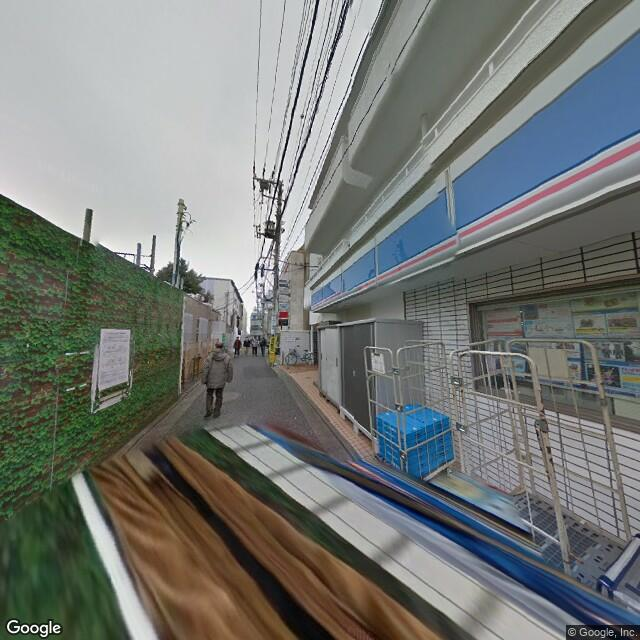lawson: (311, 21, 637, 314)
